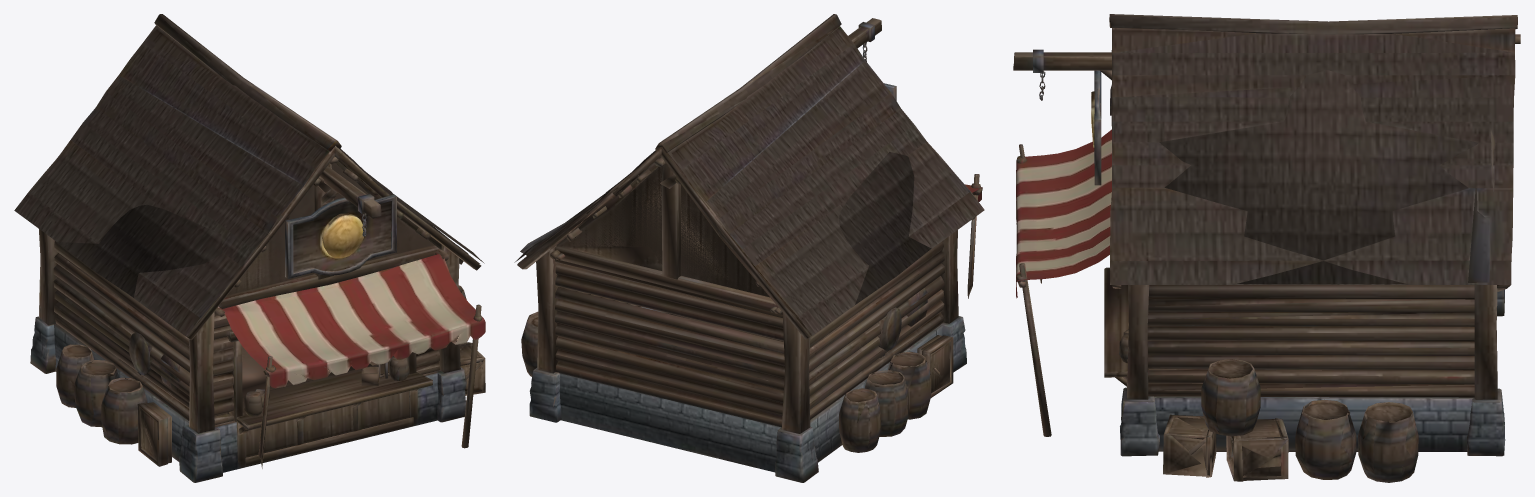
The model's file is tradingPost.glb.
3 views of the same model, side by side, from view 1: azimuth 30°, elevation 25°; view 2: azimuth 150°, elevation 25°; view 3: azimuth 270°, elevation 25° (orthographic). The views are drawn at different scales.
Bounding box in the file's own units: 0.9024 × 0.7539 × 0.9531.
Materials: 1 (1 with a texture image).
